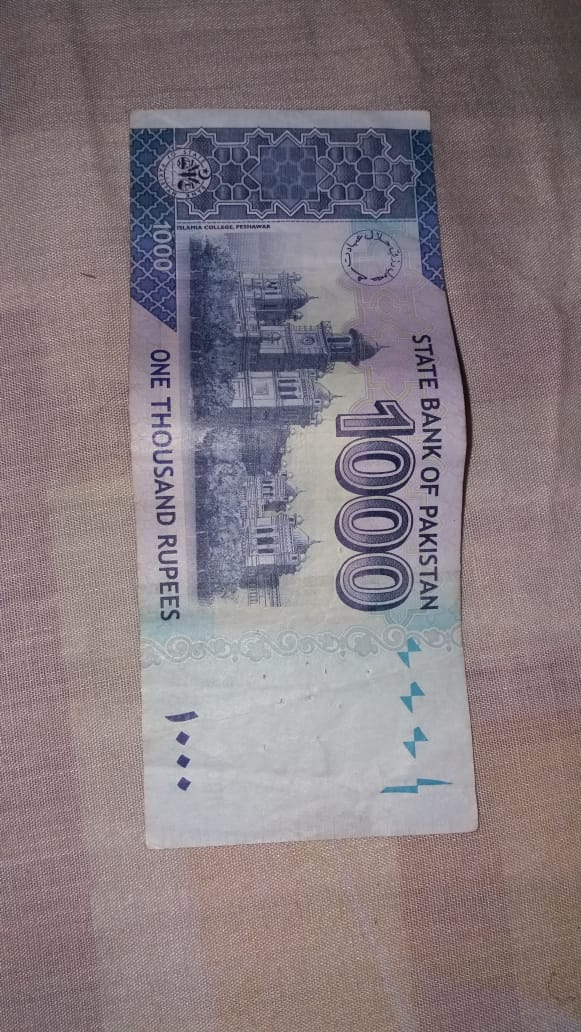1000 rupee: (88, 101, 508, 900)
